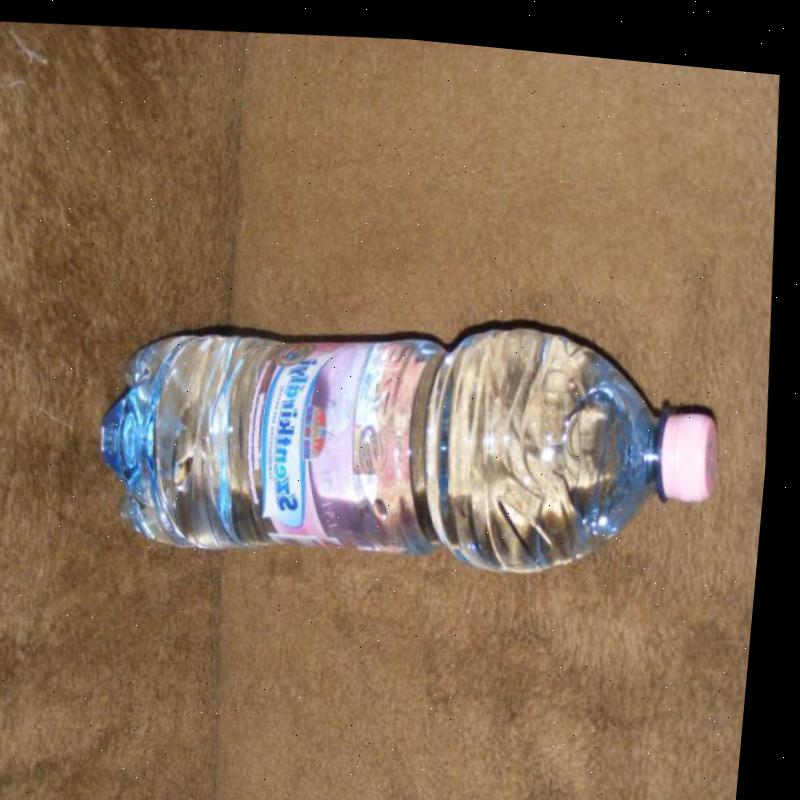botella: (90, 274, 740, 597)
